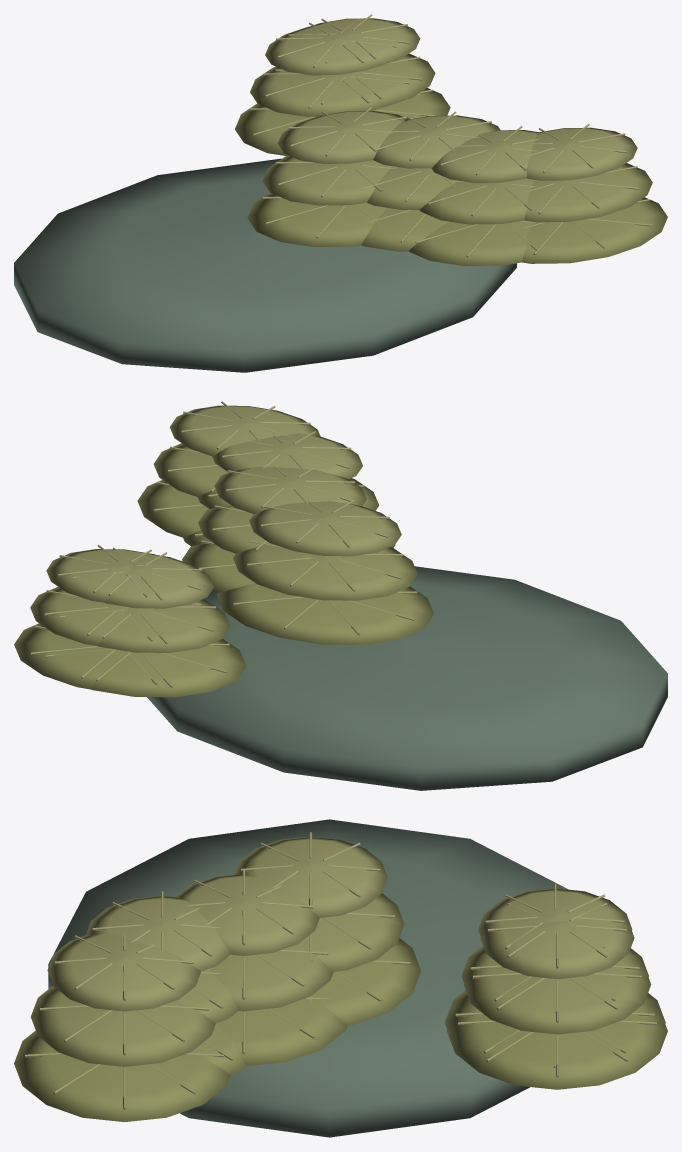
The model's file is Reef2.fbx.
3 views of the same model, one above another, from view 1: azimuth 30°, elevation 25°; view 2: azimuth 150°, elevation 25°; view 3: azimuth 270°, elevation 25° (orthographic). The views are drawn at different scales.
Parts seen in each view (by area): view 1: Hollow sponges, branching sea fans and ribbed plate coral; view 2: Hollow sponges, branching sea fans and ribbed plate coral; view 3: Hollow sponges, branching sea fans and ribbed plate coral.
Boxes of the visible parts, x1=… form: Hollow sponges, branching sea fans and ribbed plate coral: x1=14, y1=14, x2=667, y2=372; Hollow sponges, branching sea fans and ribbed plate coral: x1=14, y1=401, x2=667, y2=790; Hollow sponges, branching sea fans and ribbed plate coral: x1=14, y1=819, x2=667, y2=1137.
Size of the model in its own units: 3.17 by 0.895 by 2.54.
